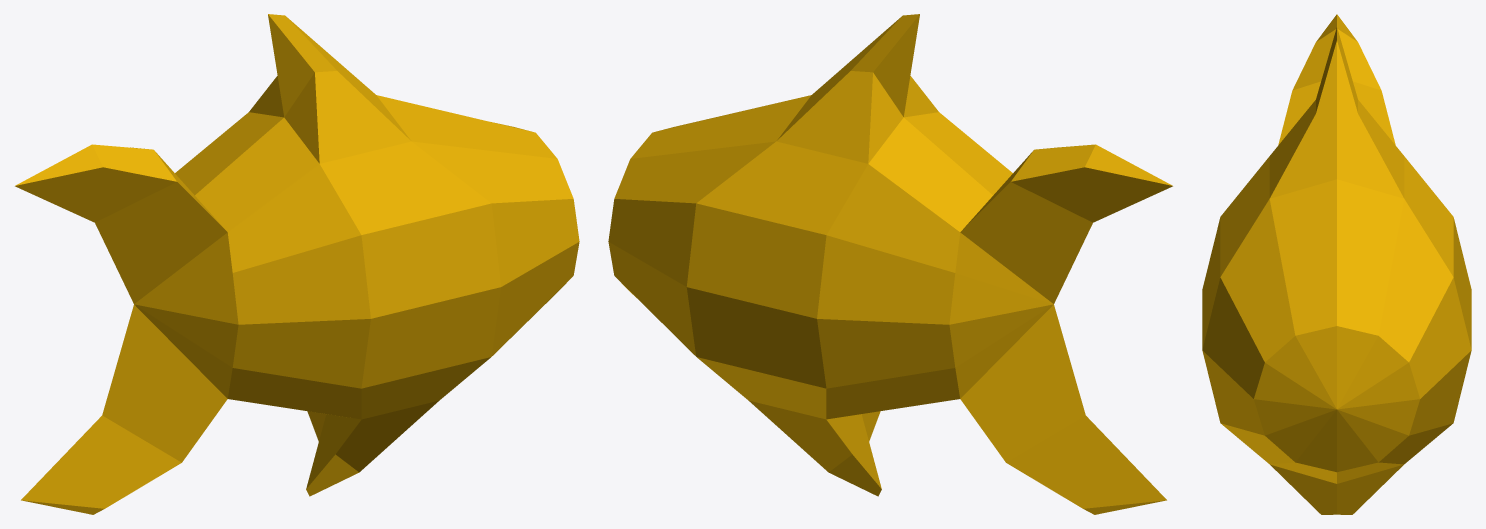
The model's file is Fish.fbx.
3 views of the same model, side by side, from view 1: azimuth 30°, elevation 25°; view 2: azimuth 150°, elevation 25°; view 3: azimuth 270°, elevation 25° (orthographic). The views are drawn at different scales.
Visible parts, largest first — view 1: Fish; view 2: Fish; view 3: Fish.
Part boxes in pixels (<box>): Fish: <box>15,14,579,514</box>; Fish: <box>608,14,1172,514</box>; Fish: <box>1202,14,1471,514</box>.
Size of the model in its own units: 1.51 by 1.31 by 0.6805.
